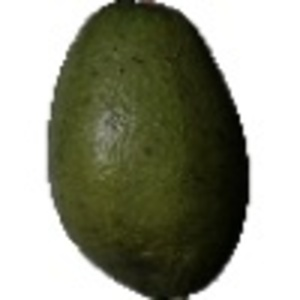abacate: (49, 3, 250, 299)
